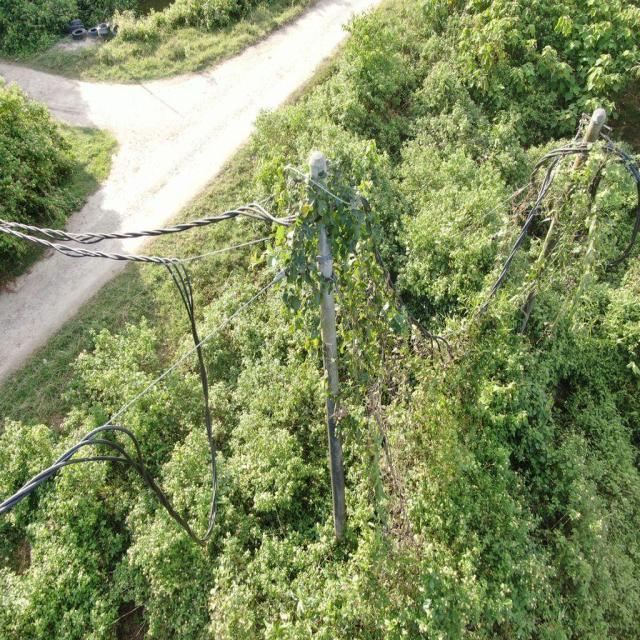critical vegetation: (276, 152, 419, 542)
